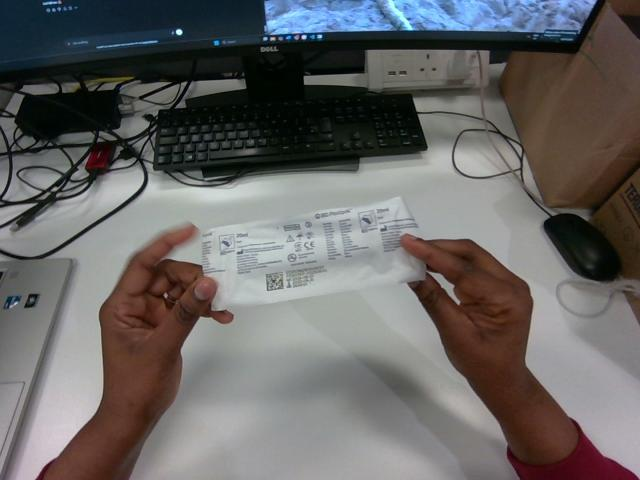syringe: (202, 197, 424, 309)
